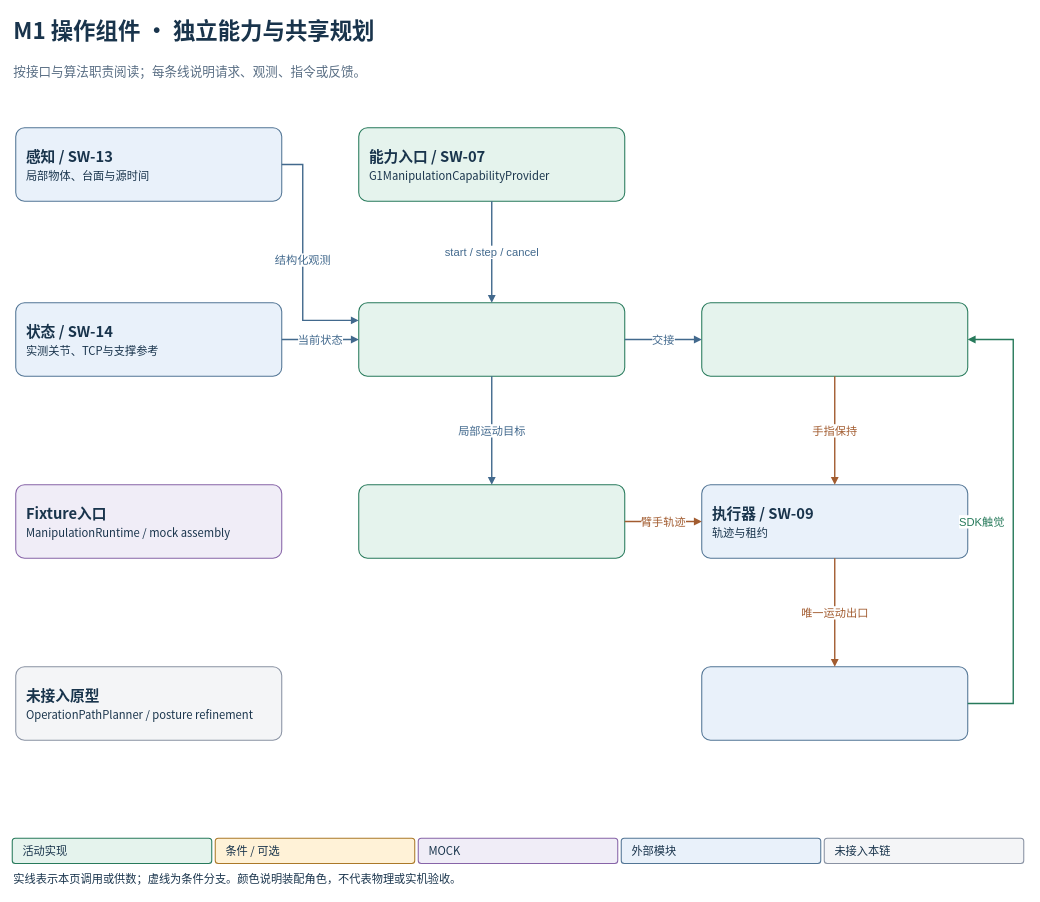
The diagram is 1040 pixels wide and 902 high, and some of its shapes have lost their labels. Here are the shapes that lost their labels. From the top down, the centre of each, then its label:
point (491, 339): 六项独立能力 approach · reach · hand · pick · display · place
point (834, 339): 触觉与责任交接 grip / holding / approach handoff
point (491, 521): 共享运动规划 Pink → minimum jerk → 原生检查
point (834, 703): 网关与G1后端 / SW-11 AMO腿腰 + 双臂 + REVO2
